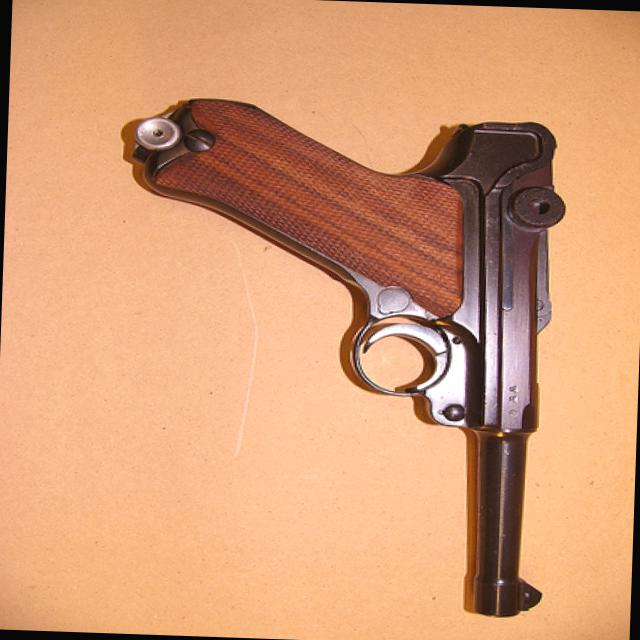handgun: (118, 92, 571, 619)
